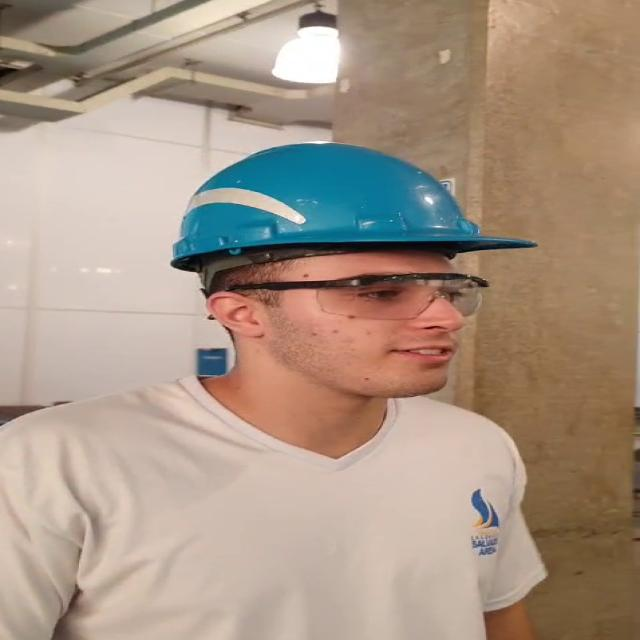oculos-epi: (244, 273, 487, 319), (229, 284, 257, 292)
